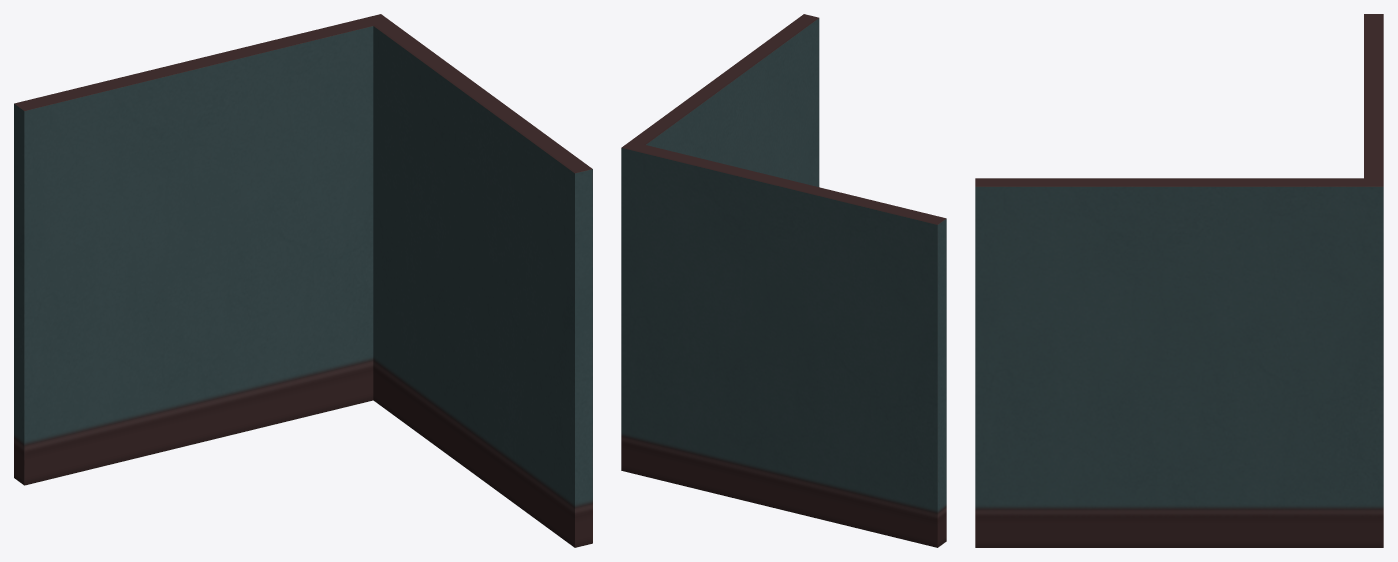
Rendered from Wall_4_Corner_A.fbx.
3 renders of one model, left to right at view 1: azimuth 30°, elevation 25°; view 2: azimuth 150°, elevation 25°; view 3: azimuth 270°, elevation 25°, orthographic. The views are drawn at different scales.
Visible parts, largest first — view 1: polySurface25; view 2: polySurface25; view 3: polySurface25.
Boxes of the visible parts, x1,y1,x2,y2 form: polySurface25: (14, 14, 592, 547); polySurface25: (621, 14, 946, 547); polySurface25: (975, 14, 1383, 547).
Bounding box in the file's own units: 4.1 × 4 × 4.1.
